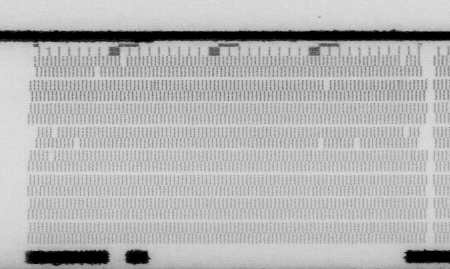Broken hole: (26, 126, 39, 152), (418, 55, 431, 80), (416, 126, 430, 149), (27, 55, 39, 80), (45, 150, 57, 164), (71, 138, 83, 151), (117, 55, 129, 68), (321, 79, 333, 92), (351, 137, 363, 150), (91, 65, 103, 77), (398, 55, 409, 68), (316, 137, 327, 149), (401, 127, 412, 138), (50, 126, 58, 139)
